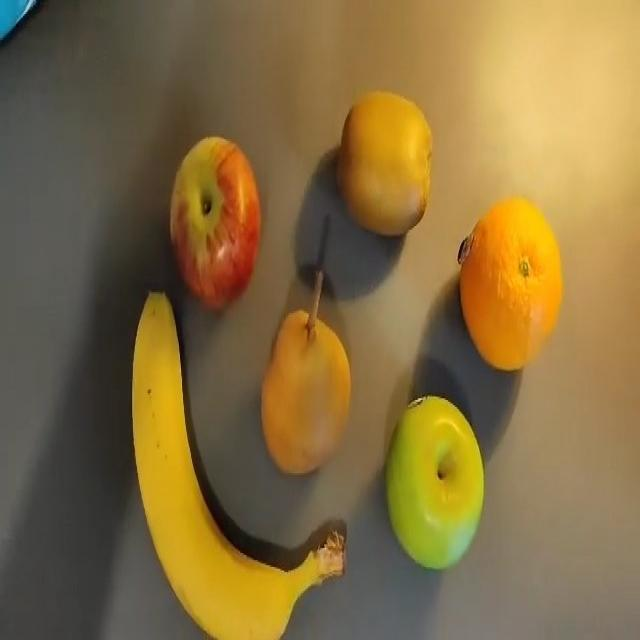Apple: (385, 393, 488, 573), (167, 124, 263, 311)
Banana: (136, 289, 297, 640)
Orange: (460, 189, 569, 377)
